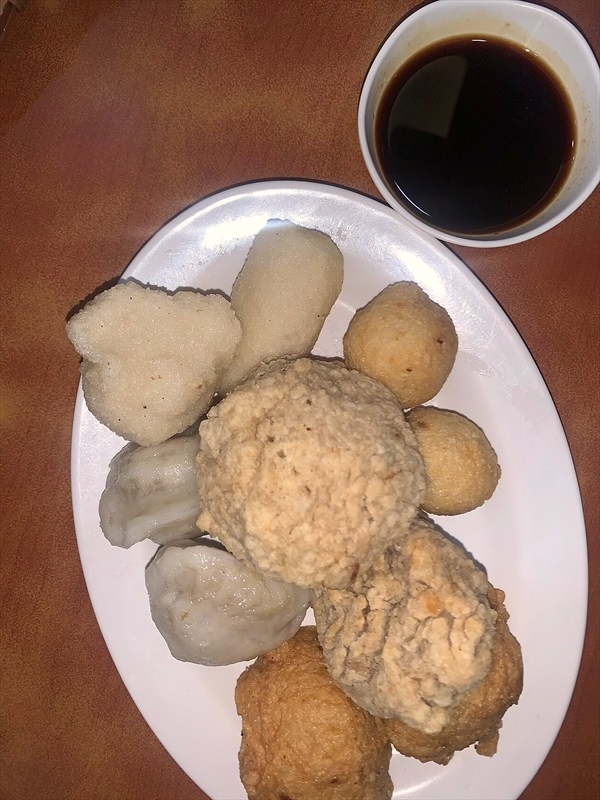Pempek: (73, 159, 568, 728)
